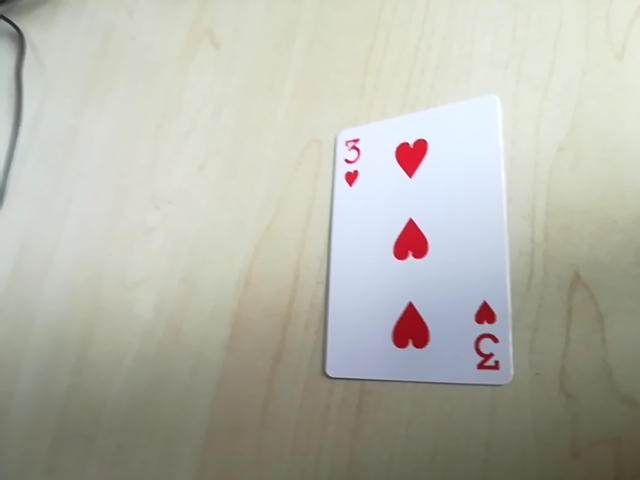hx 3: (470, 323, 511, 377), (334, 131, 367, 187)
